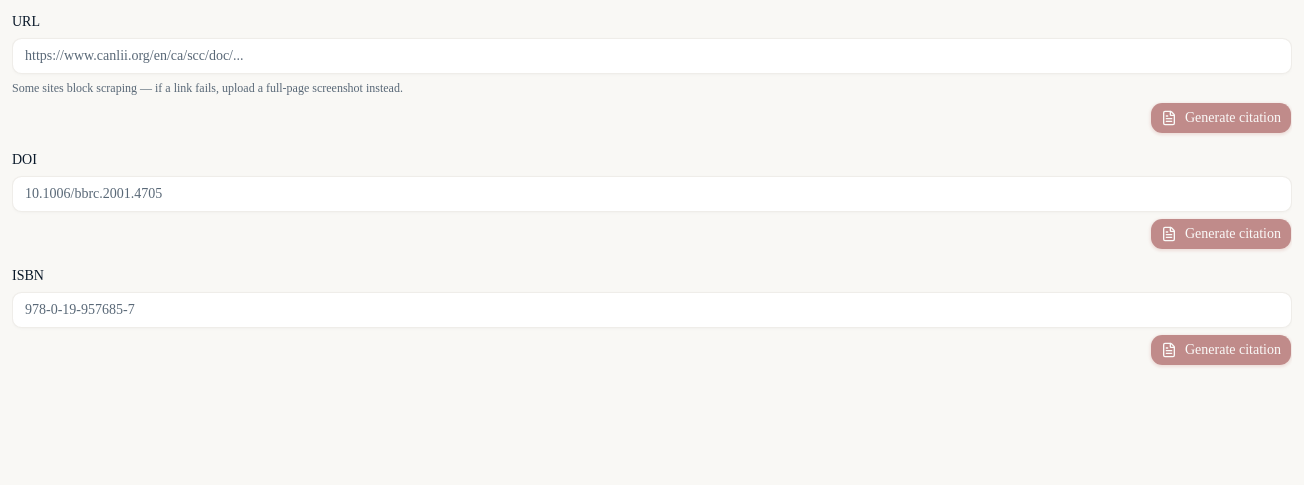
it: Tab 3 — independent per-source buttons › error response renders error message
In the field labelled "URL": (652, 56) x1=12 y1=38 x2=1292 y2=74, type "https://example.com"
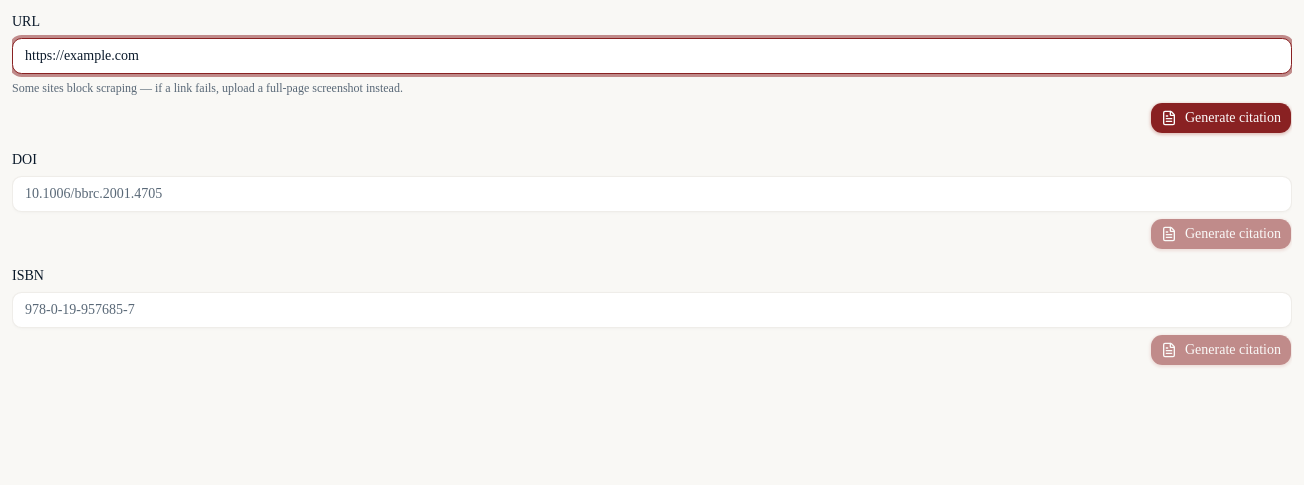
Click the 1st button "Generate citation": (1221, 118) x1=1150 y1=102 x2=1292 y2=134
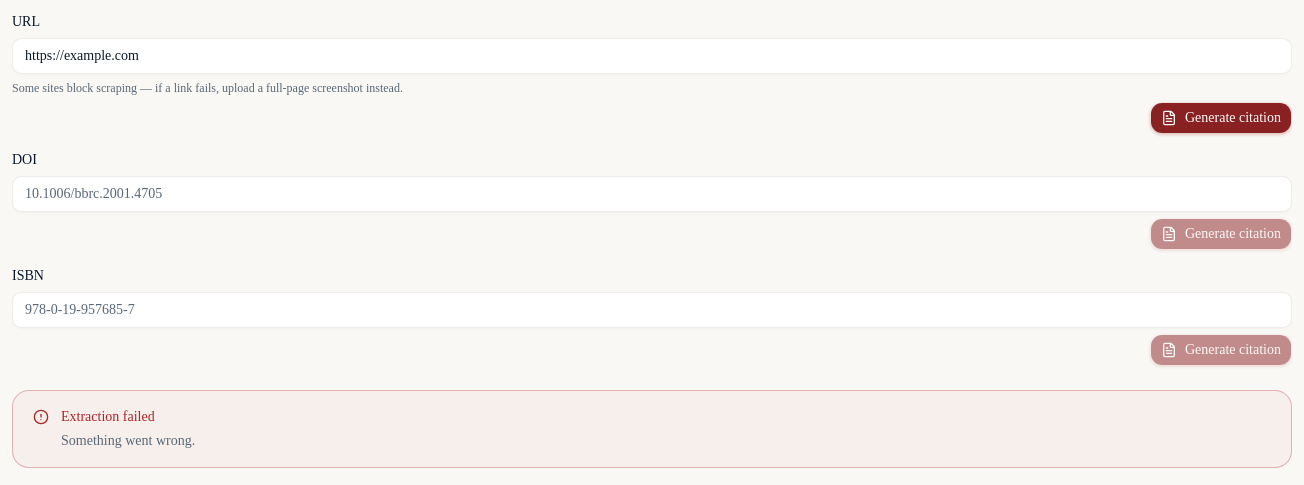
Expected: the text "Something went wrong." is shown, x1=61 y1=431 x2=195 y2=451
